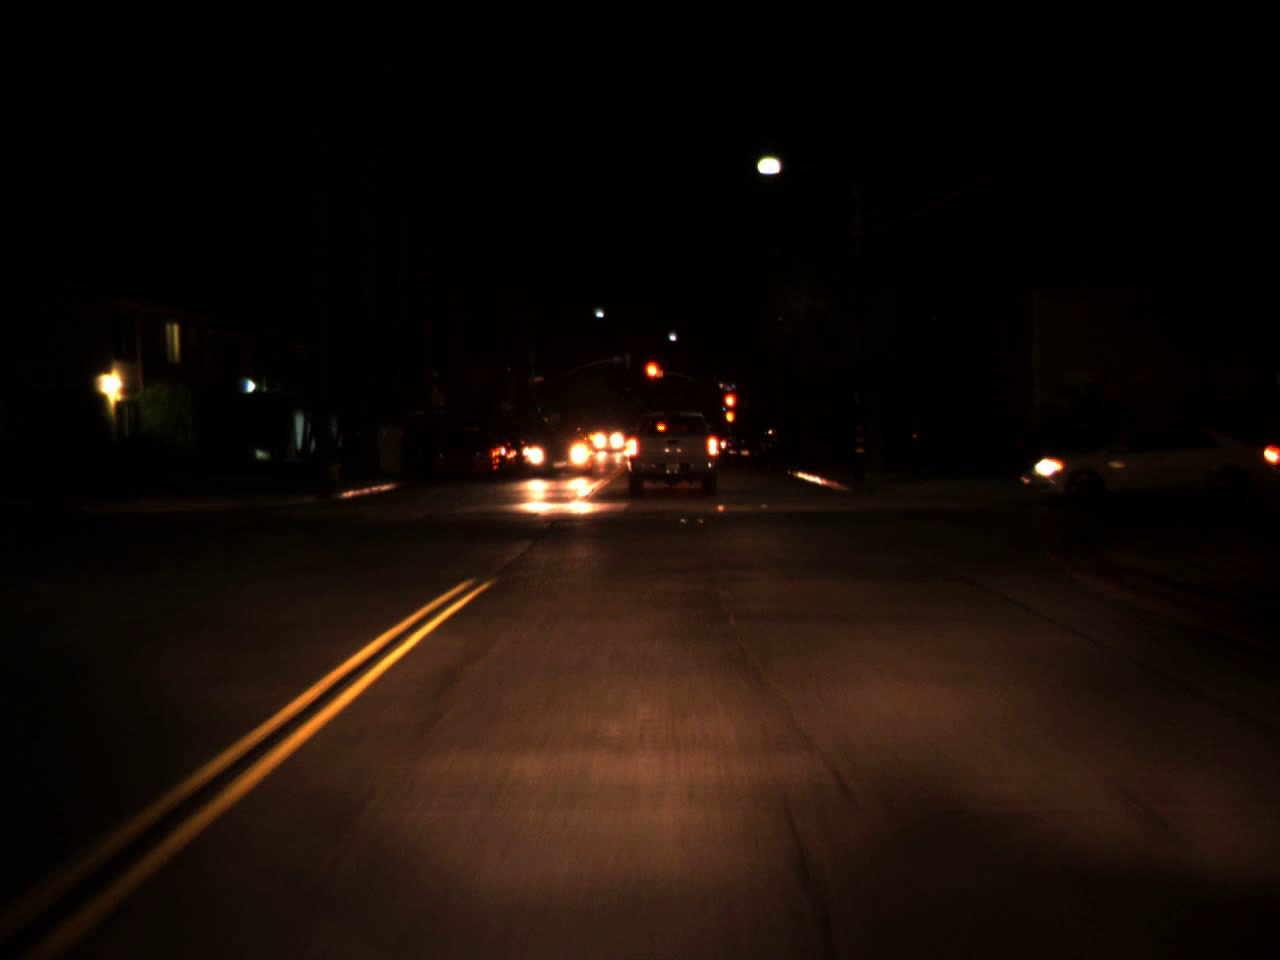stop: (642, 359, 664, 396), (722, 391, 737, 423)
